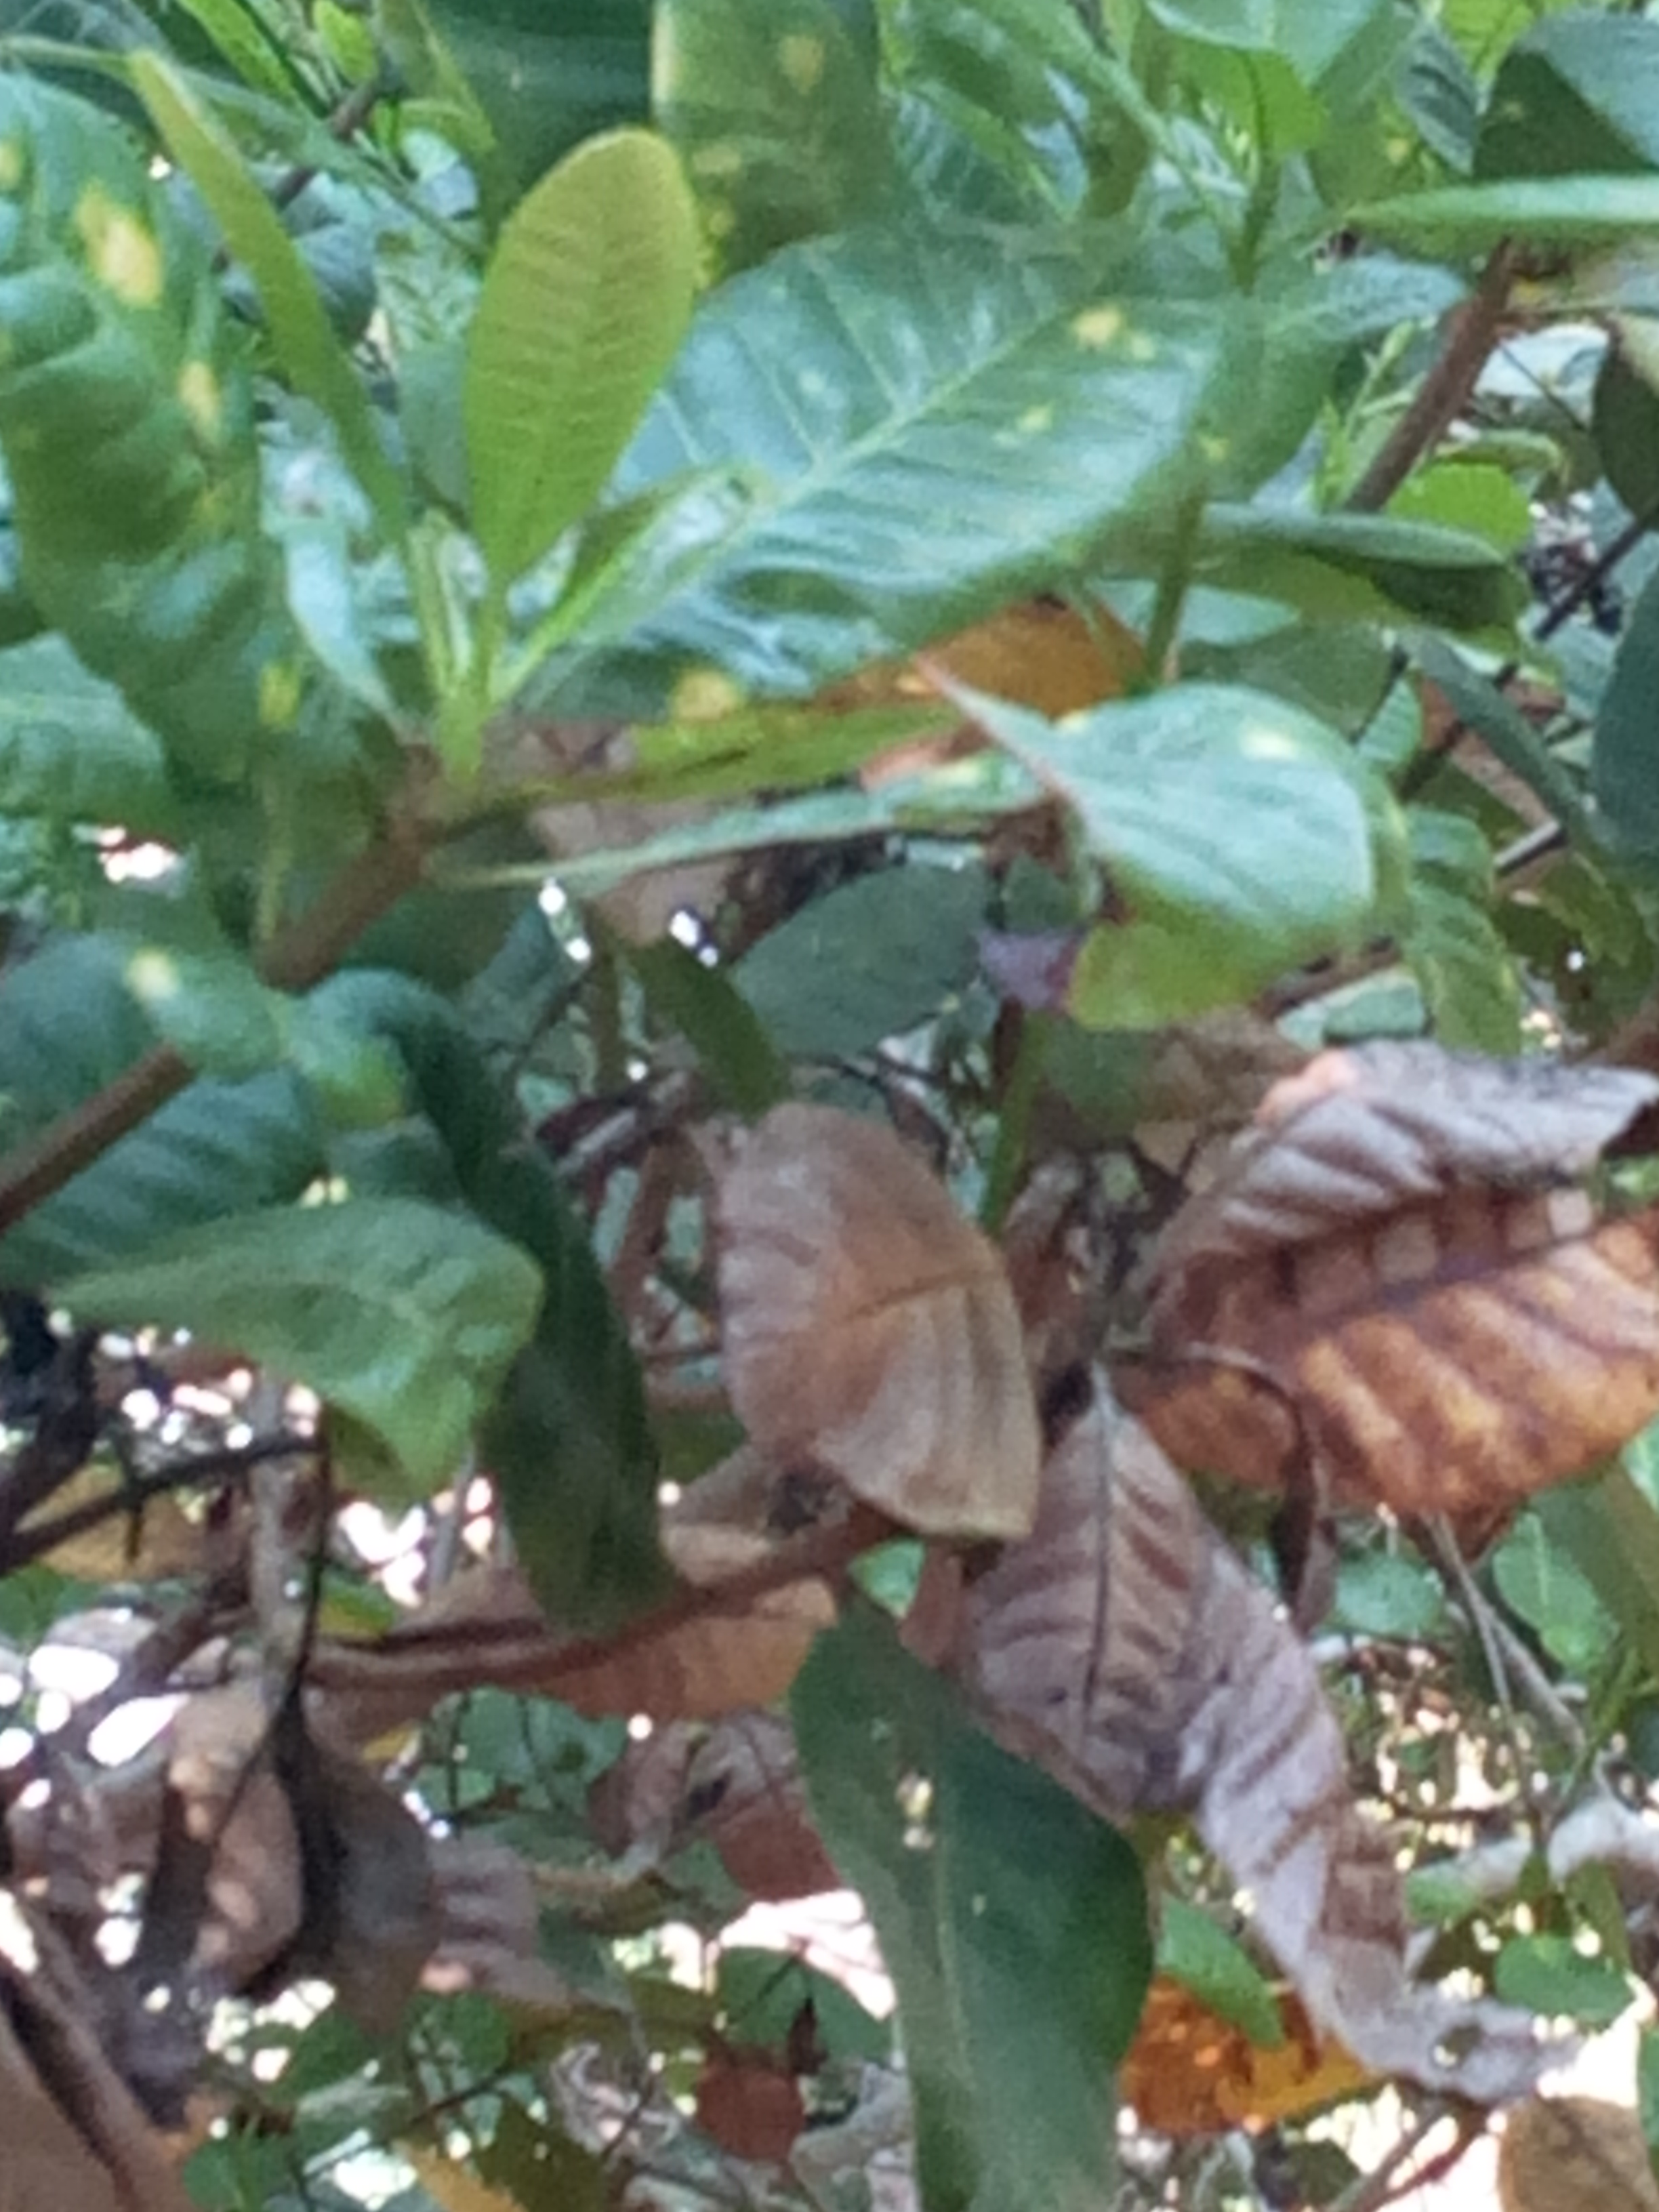Dessèchement des bourgeons: (1337, 1524, 1659, 1923), (119, 1662, 439, 2031)
